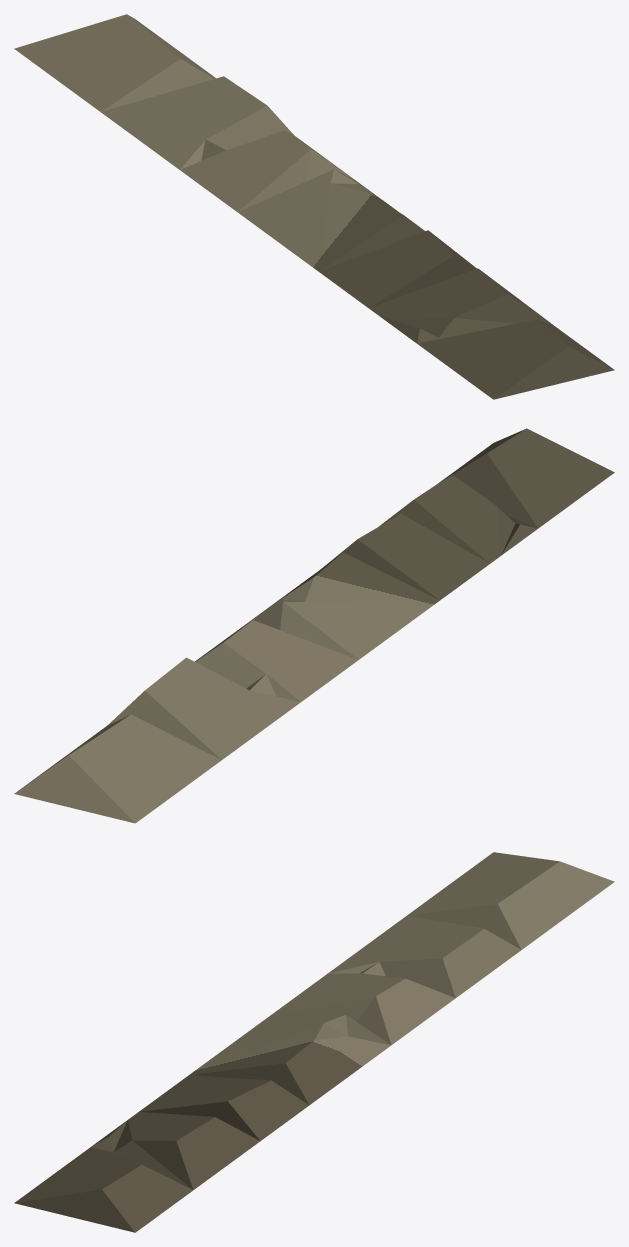
File: VolumeSkirting_04.fbx
The picture shows the model from 3 angles, top to bottom: view 1: azimuth 30°, elevation 25°; view 2: azimuth 150°, elevation 25°; view 3: azimuth 330°, elevation 25°; orthographic projection.
Parts seen in each view (by area): view 1: VolumeSkirting_04; view 2: VolumeSkirting_04; view 3: VolumeSkirting_04.
Boxes of the visible parts, box(x1,y1,x2,y2) form: VolumeSkirting_04: box(14, 14, 614, 399); VolumeSkirting_04: box(14, 428, 614, 823); VolumeSkirting_04: box(14, 852, 614, 1232).
Size of the model in its own units: 11.11 by 2.65 by 76.01.
1 material, 1 textured.
